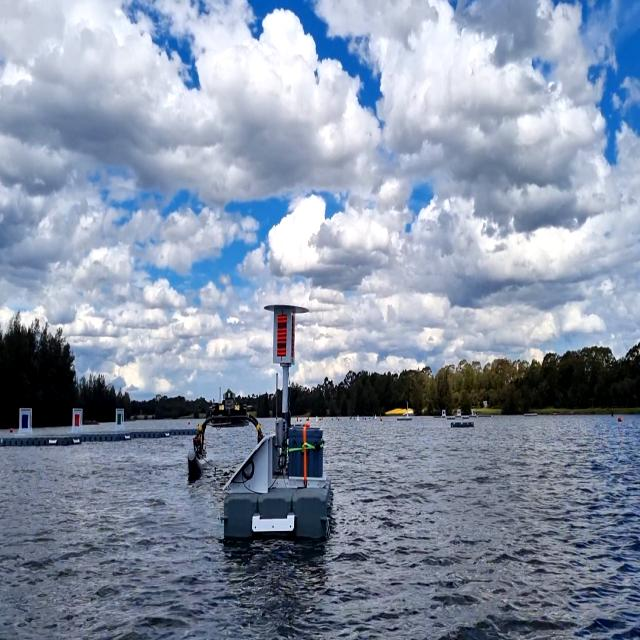led: (275, 312, 289, 360)
